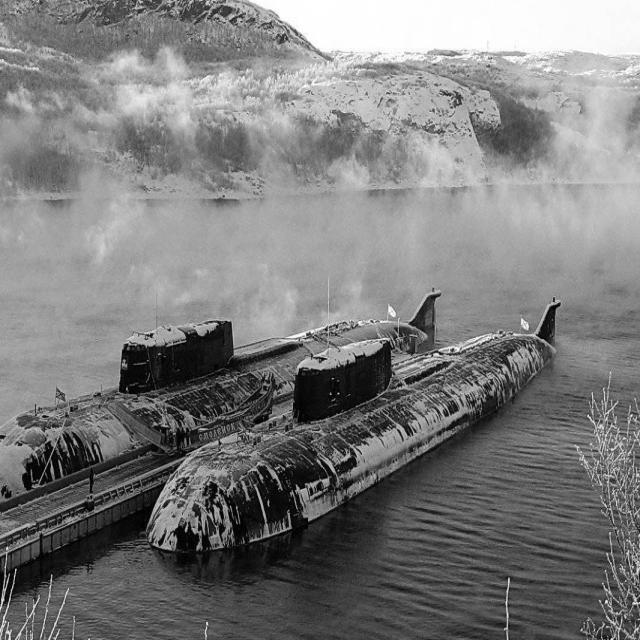submarine: (137, 289, 570, 568), (1, 282, 448, 518)
